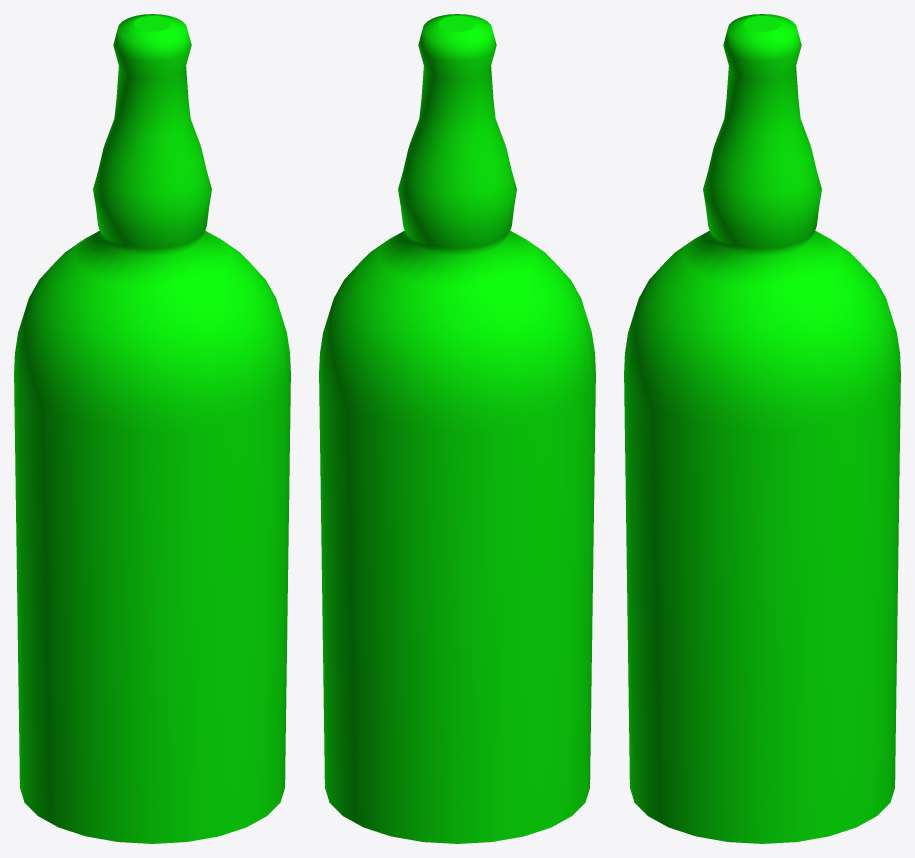
Rendered from Boutielle_ANIM.FBX.
The picture shows the model from 3 angles, left to right: view 1: azimuth 30°, elevation 25°; view 2: azimuth 150°, elevation 25°; view 3: azimuth 270°, elevation 25°; orthographic projection.
Parts seen in each view (by area): view 1: Whisky01; view 2: Whisky01; view 3: Whisky01.
Part boxes in pixels (x1=…): Whisky01: x1=14, y1=14, x2=290, y2=843; Whisky01: x1=319, y1=14, x2=595, y2=843; Whisky01: x1=624, y1=14, x2=900, y2=843.
Size of the model in its own units: 15.23 by 46.36 by 15.23.
